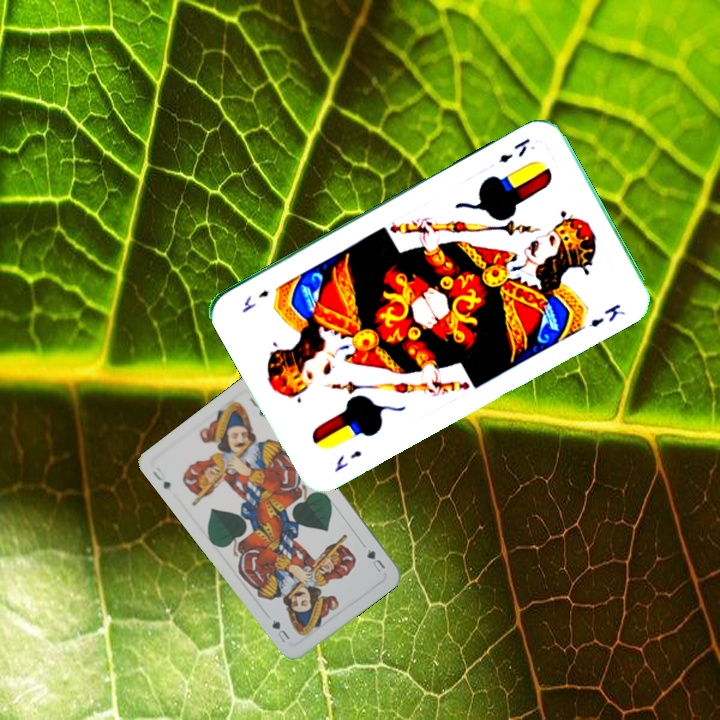EK: (495, 134, 533, 166), (330, 446, 365, 474)
GU: (363, 545, 388, 575), (148, 463, 173, 493)
